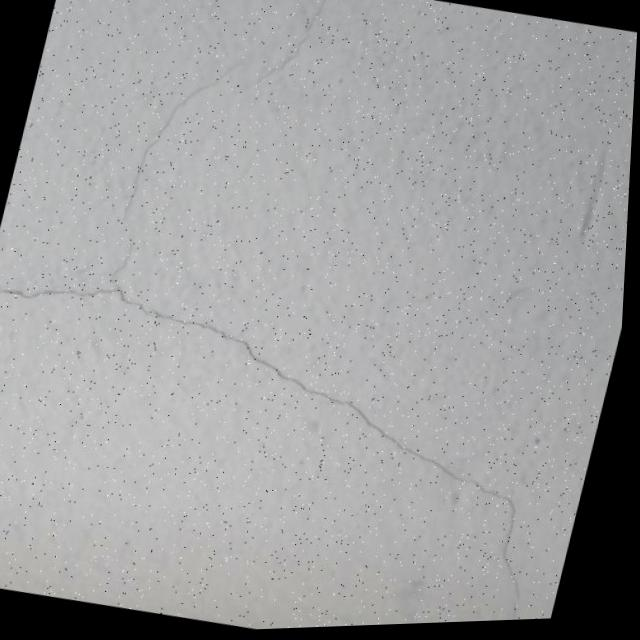Crack: (0, 249, 604, 640), (73, 0, 362, 315)
